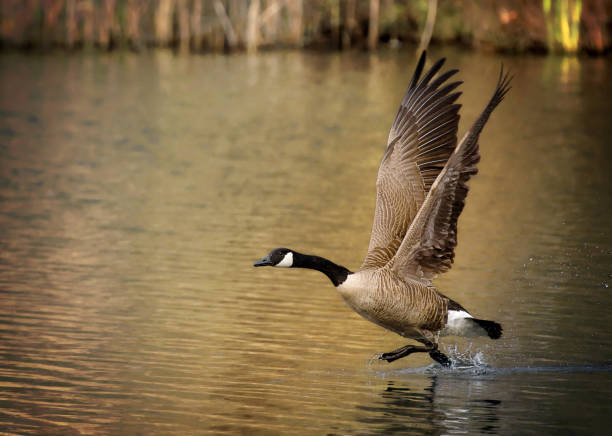goose: (249, 49, 507, 382)
